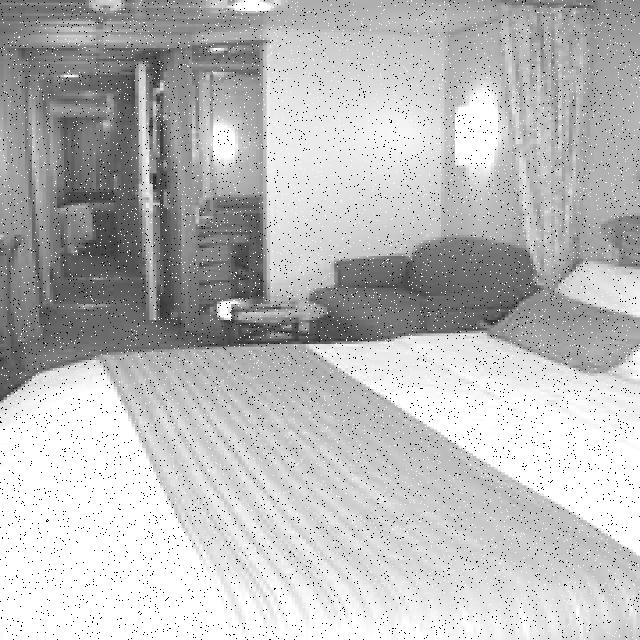bed: (0, 290, 639, 640)
